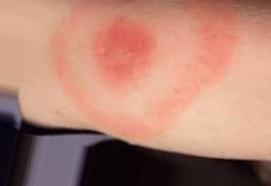Tick: (83, 8, 166, 90)
